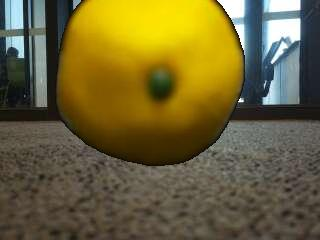lemon: (61, 1, 244, 170)
